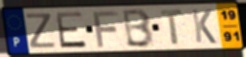B: (122, 7, 156, 49)
E: (54, 11, 89, 50)
F: (91, 10, 120, 49)
K: (190, 8, 218, 45)
T: (159, 9, 184, 46)
Z: (24, 12, 58, 50)
